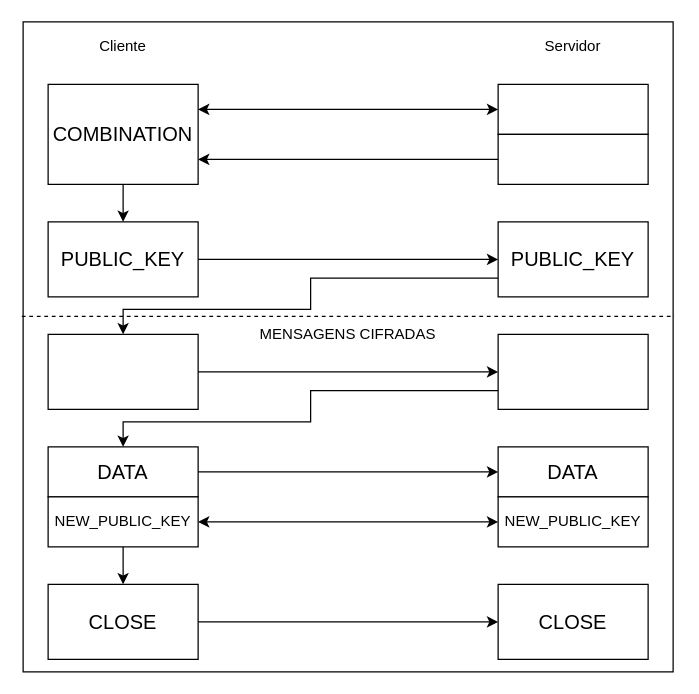
This 699x694 diagram has some shape labels left out. The centre of each missing label's shape, as x and y in pixels:
ACCEPT: [572,158]
FILE_NAME: [122,371]
OK: [572,371]
REFUSE: [572,108]
